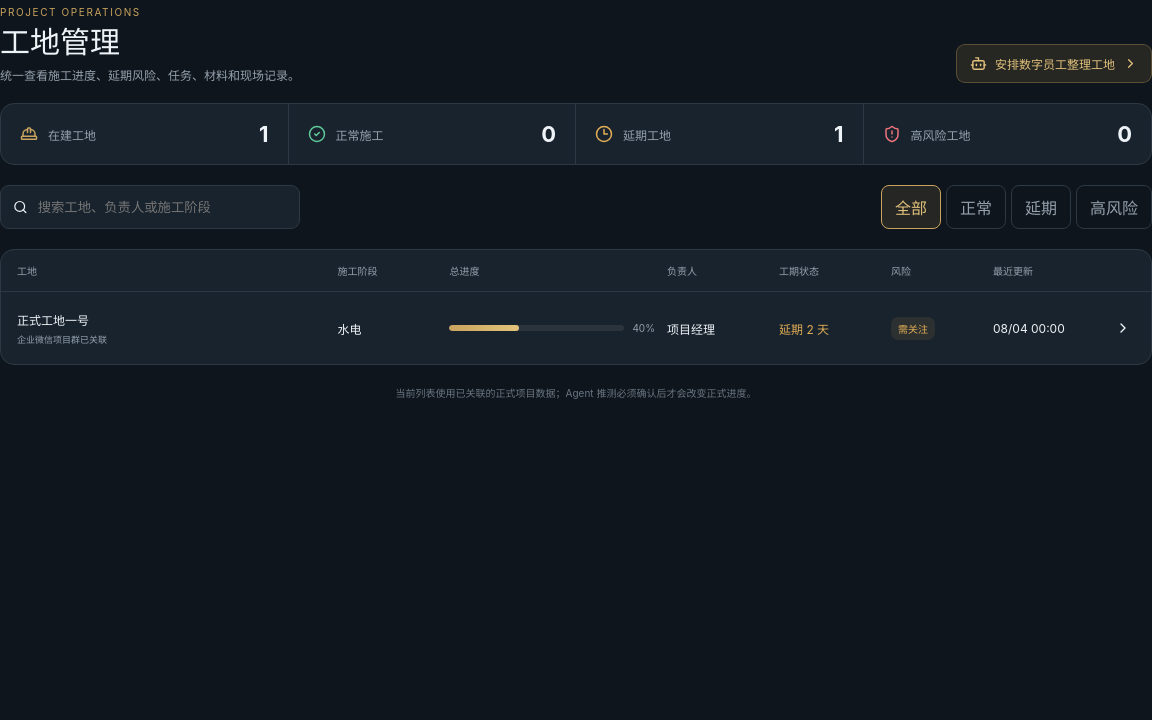
Scenario: ProjectManagementPage › shows formal project overview and opens detail tabs
Expected: the heading "工地管理" is shown, [0,26,120,59]
Expected: the text "正式工地一号" is shown, [17,312,89,328]
Click the row "正式工地一号 企业微信项目群已关联 水电 40% 项目经理 延期 2 天 需关注 08/04 00:00" at (576, 328), box [1,292,1151,364]
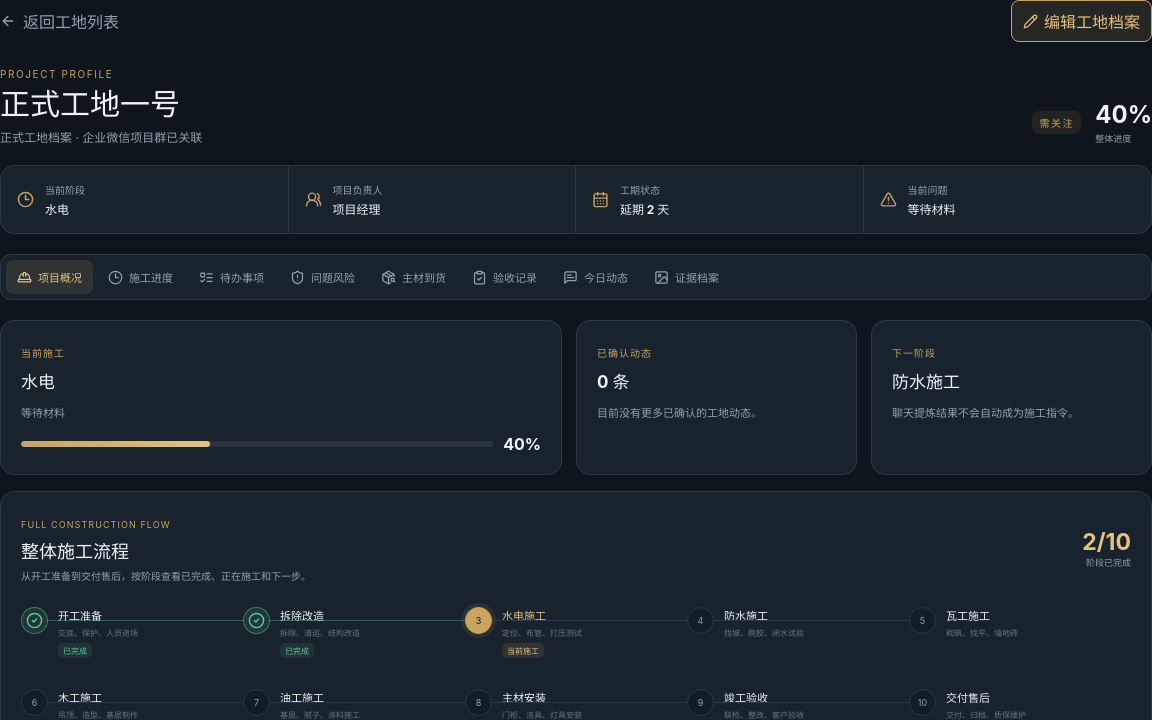
Expected: the heading "正式工地一号" is shown, [0,87,202,123]
Expected: the text "拆除改造" is shown, [280,609,324,623]
Expected: the text "水电施工" is shown, [502,609,546,623]
Click the button "验收记录" at (504, 277), box [461,260,548,294]
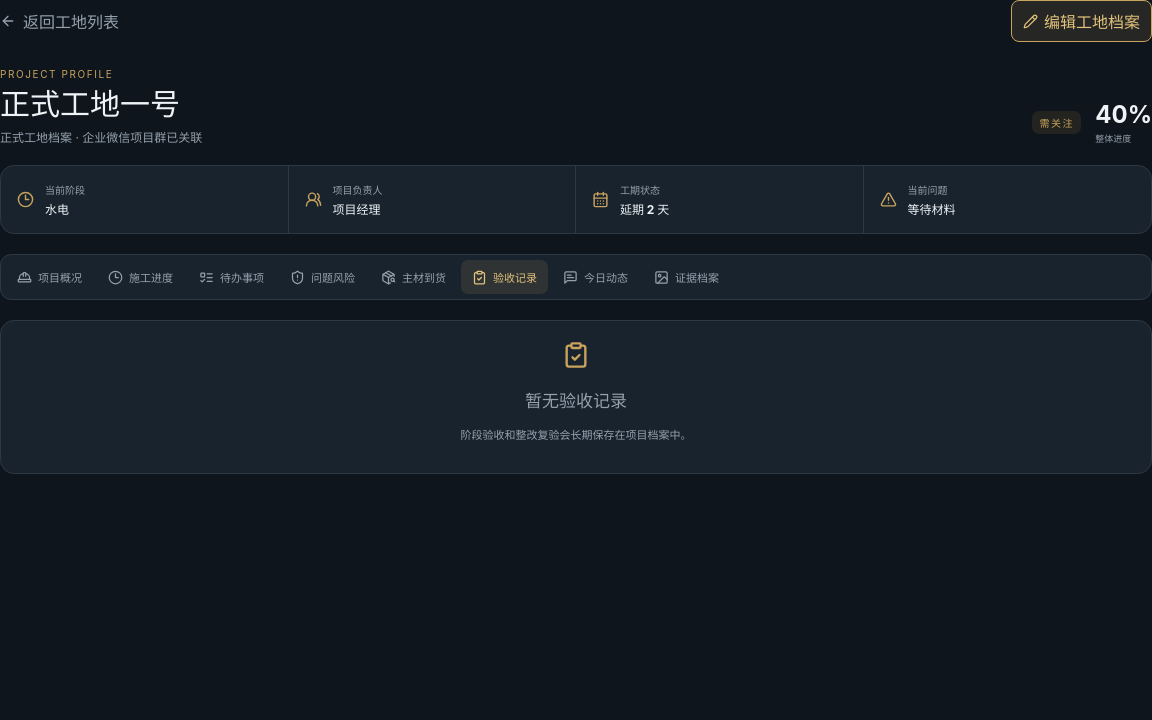
Expected: the heading "暂无验收记录" is shown, [525,391,627,411]
